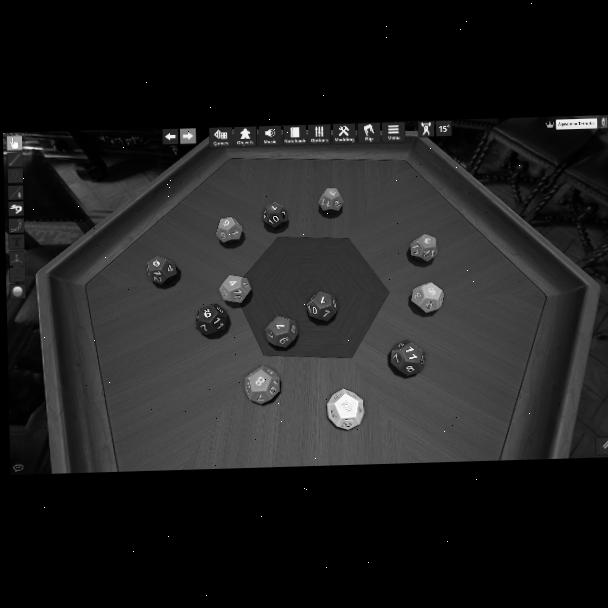d12: (325, 388, 363, 430), (244, 365, 280, 404), (265, 314, 300, 347), (397, 341, 428, 375), (410, 284, 442, 316), (146, 255, 178, 286), (219, 275, 250, 306), (305, 291, 335, 323), (195, 304, 225, 336), (410, 234, 438, 264), (216, 216, 243, 244), (262, 202, 288, 230), (318, 188, 343, 214)
